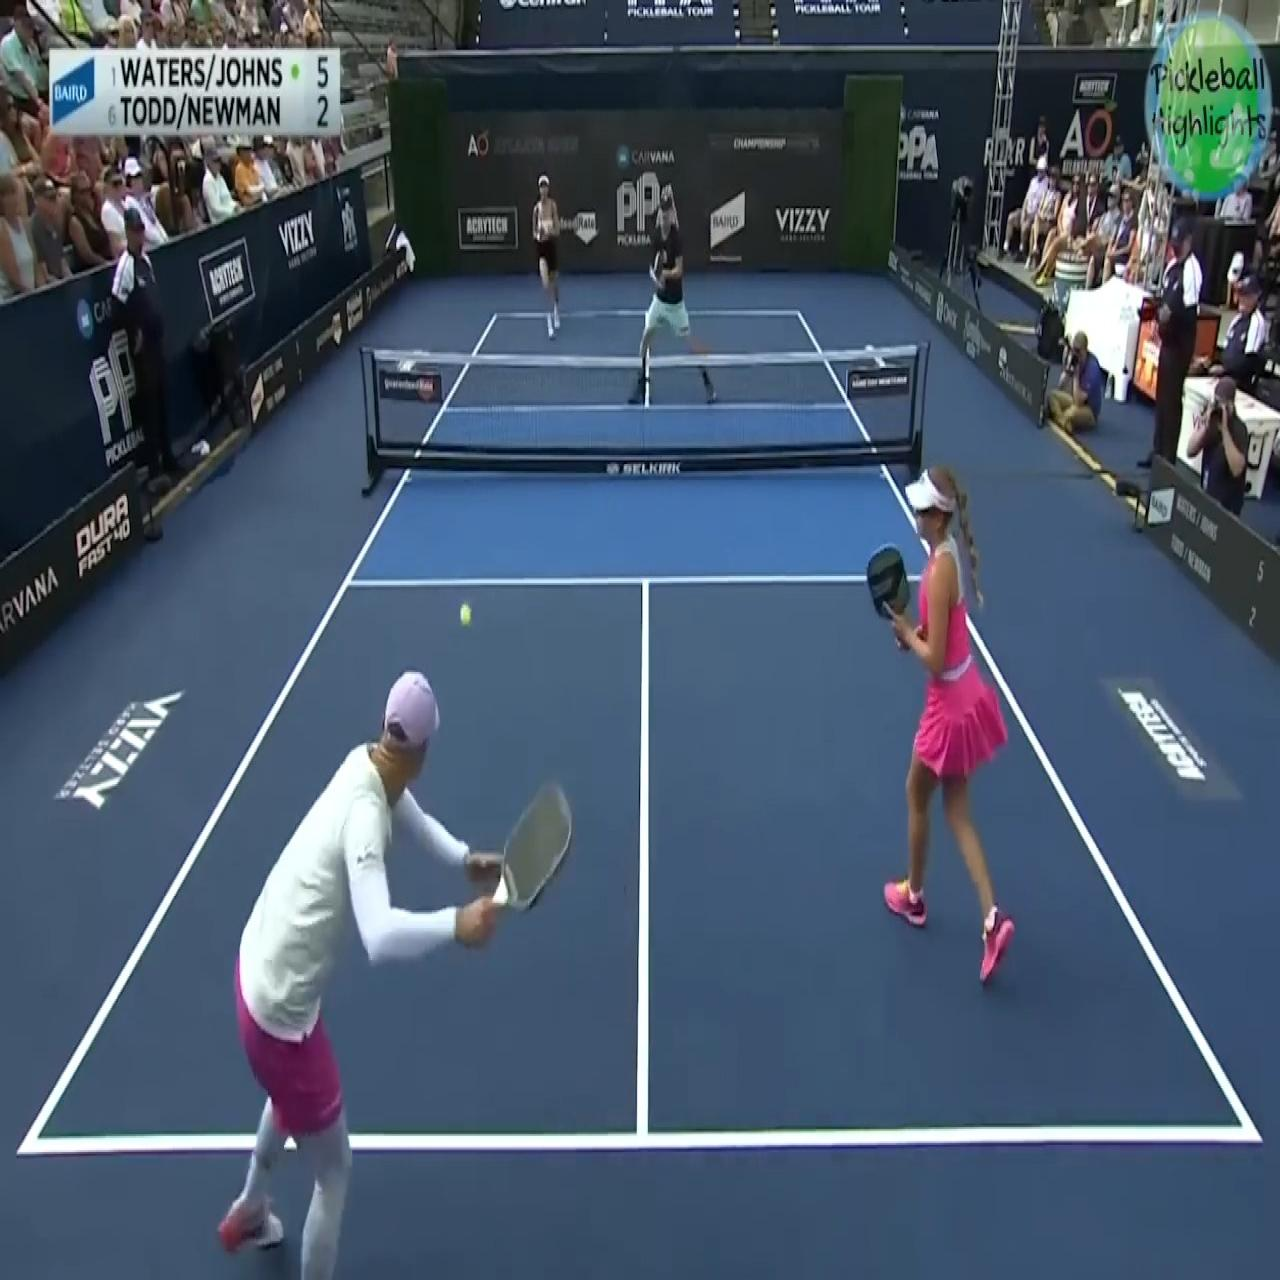Pickleball: (457, 598, 474, 633)
